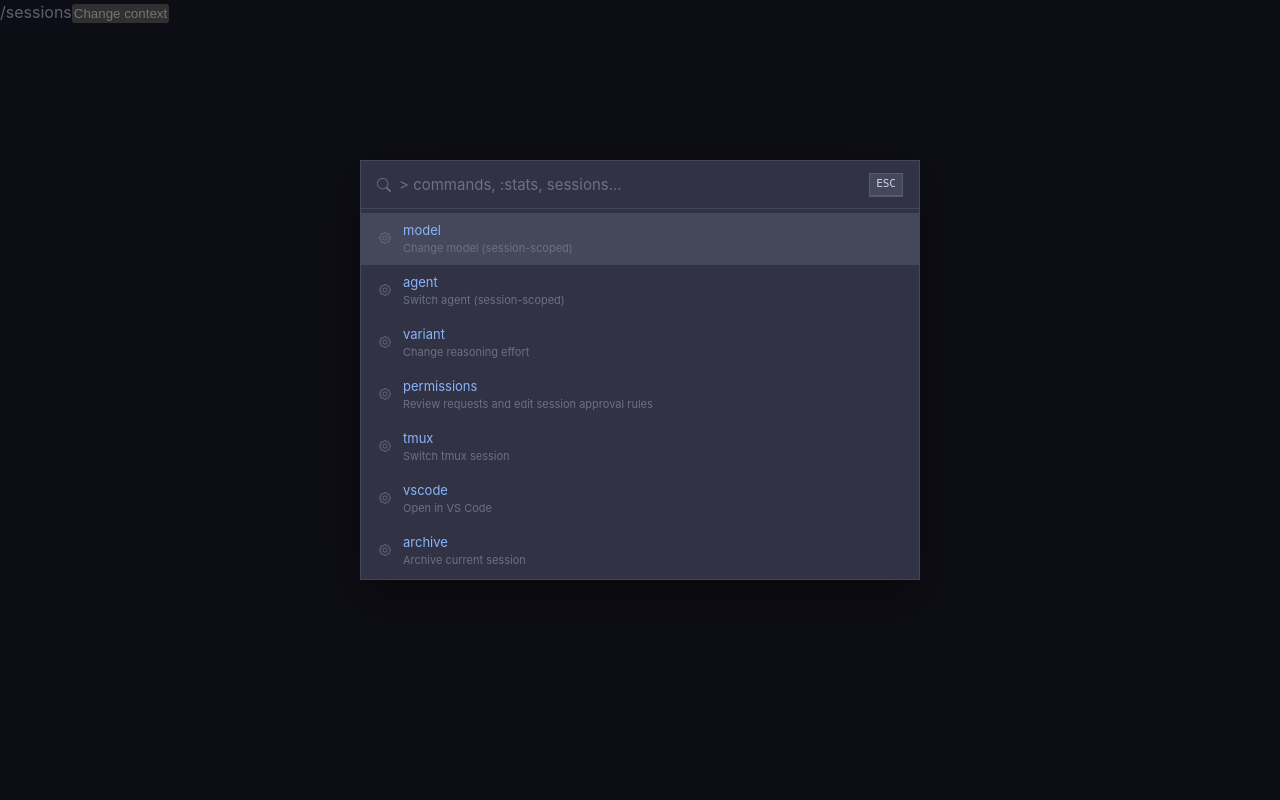
it: plugin command contributions › handles a browser timeout without retrying
Type ">Create report" into the dropdown at (630, 184), box [399,175,861,194]
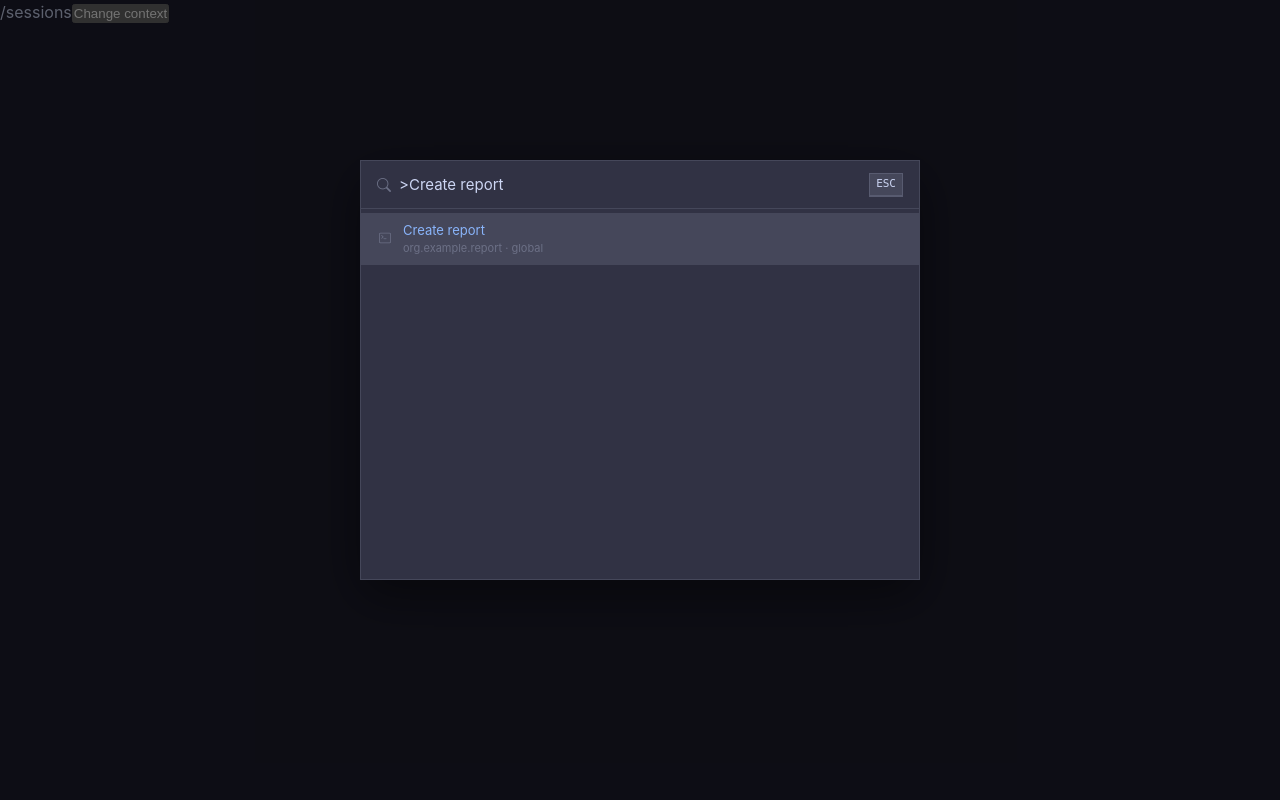
Check: the option "Create report org.example.report · global" is shown, box [361,212,919,264]
Press Enter in the dropdown, box [399,175,861,194]
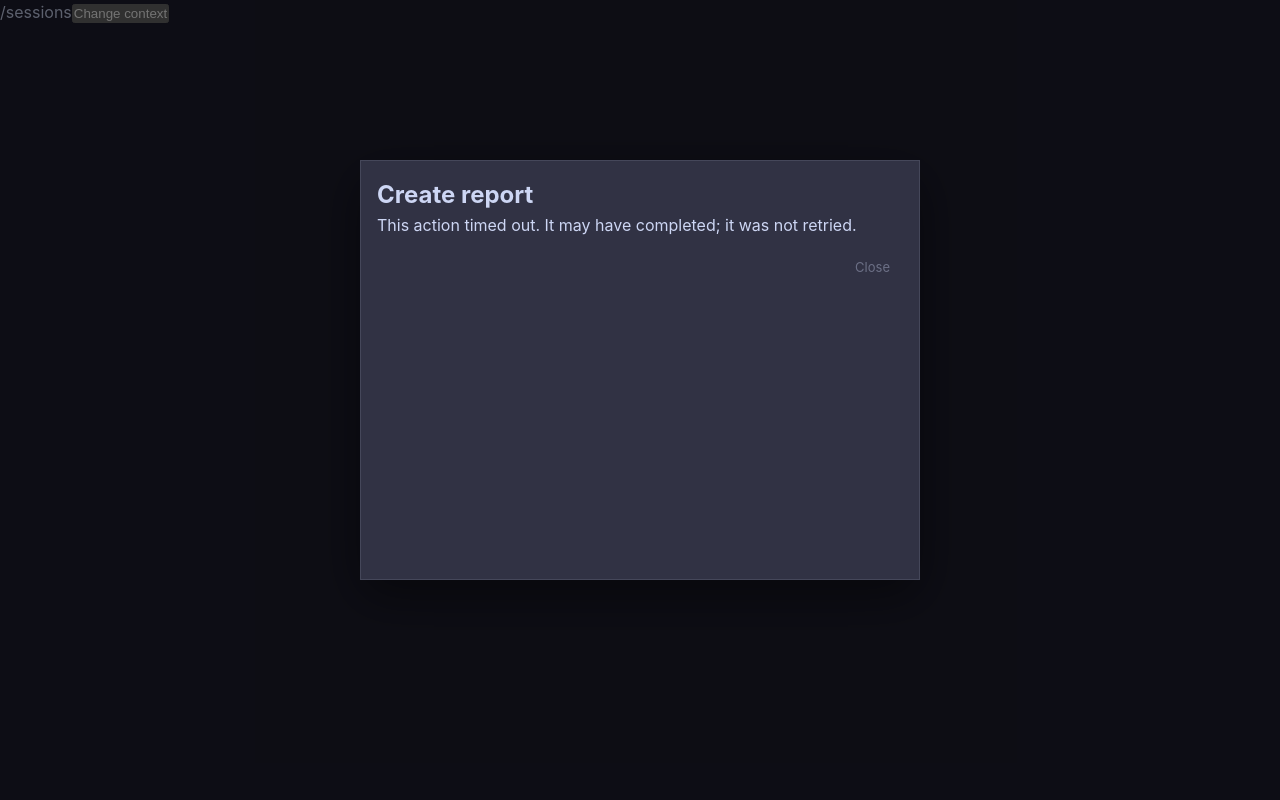
Check: the message shows "timed out", box [377,215,857,235]
